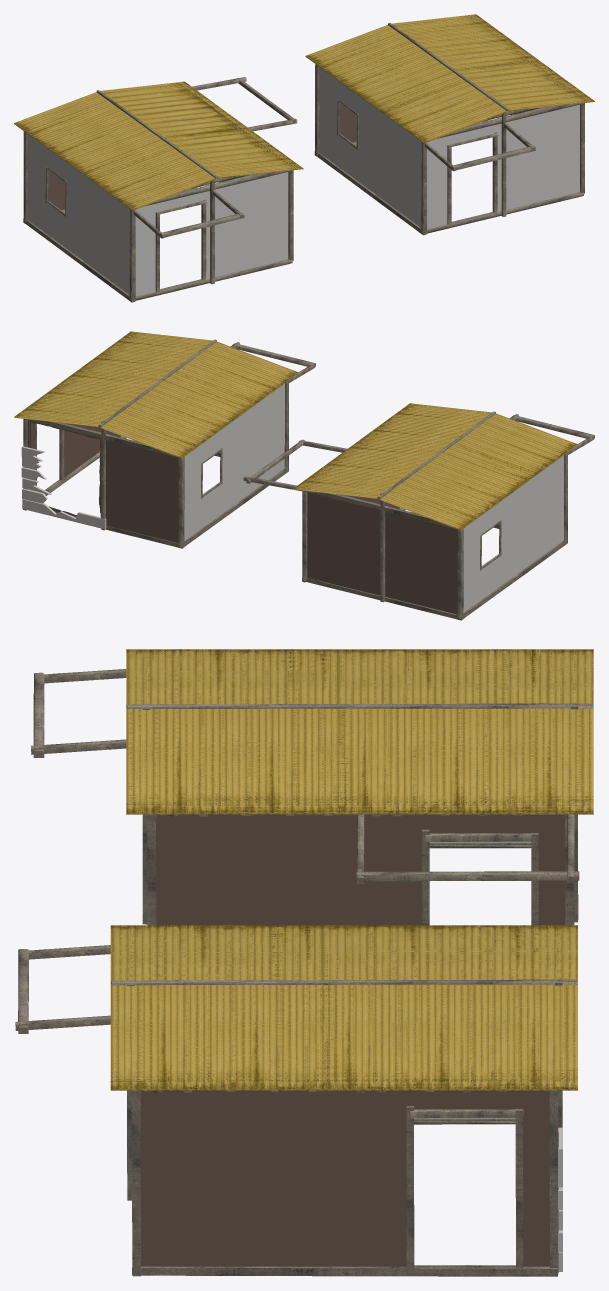
File: sheds.fbx
The picture shows the model from 3 angles, top to bottom: view 1: azimuth 30°, elevation 25°; view 2: azimuth 150°, elevation 25°; view 3: azimuth 270°, elevation 25°; orthographic projection. The views are drawn at different scales.
Visible parts, largest first — view 1: Group1, Group2; view 2: Group1, Group2; view 3: Group2, Group1.
Part boxes in pixels (x1=…): Group1: x1=14, y1=77, x2=303, y2=302; Group2: x1=305, y1=14, x2=594, y2=235; Group1: x1=243, y1=403, x2=594, y2=620; Group2: x1=14, y1=331, x2=315, y2=548; Group2: x1=15, y1=925, x2=577, y2=1276; Group1: x1=31, y1=649, x2=593, y2=925.
Size of the model in its own units: 497 by 114 by 276.
